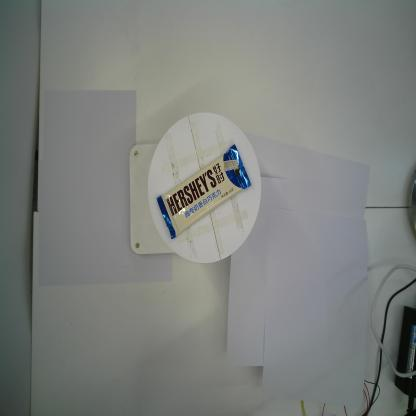Chocolate: (156, 142, 252, 240)
